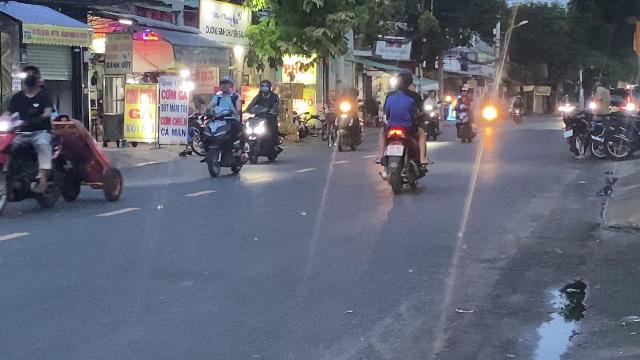helmet: (218, 75, 232, 91), (258, 78, 270, 92)
licenseplate: (387, 145, 403, 155)
motorcyclist: (0, 63, 58, 227), (374, 67, 431, 193), (198, 75, 248, 179), (242, 78, 286, 166)
nohelmet: (16, 63, 44, 91)
